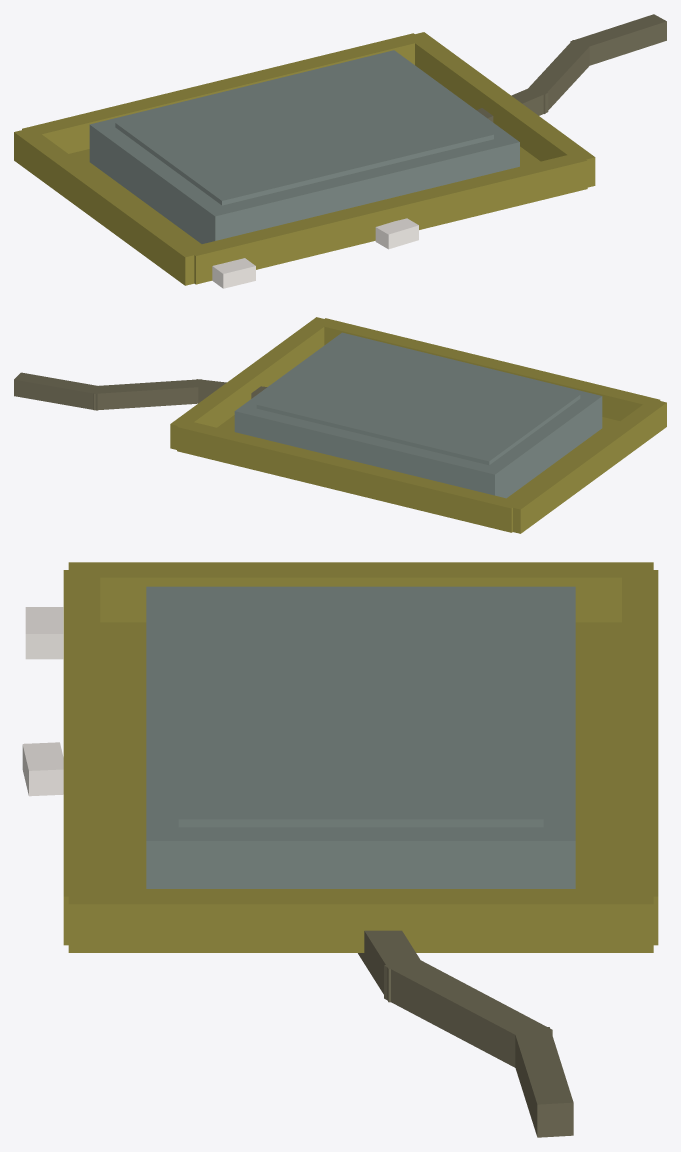
File: SM_CisternaFlexible_v1_Media_LOD1.fbx
3 views of the same model, one above another, from view 1: azimuth 30°, elevation 25°; view 2: azimuth 150°, elevation 25°; view 3: azimuth 270°, elevation 25° (orthographic). The views are drawn at different scales.
Parts seen in each view (by area): view 1: SM_farp_betera_v1_LOD1; view 2: SM_farp_betera_v1_LOD1; view 3: SM_farp_betera_v1_LOD1.
Part boxes in pixels (x1=…): SM_farp_betera_v1_LOD1: x1=14, y1=14, x2=666, y2=288; SM_farp_betera_v1_LOD1: x1=14, y1=317, x2=666, y2=533; SM_farp_betera_v1_LOD1: x1=22, y1=562, x2=658, y2=1137.
Size of the model in its own units: 11.38 by 0.89 by 5.92.
